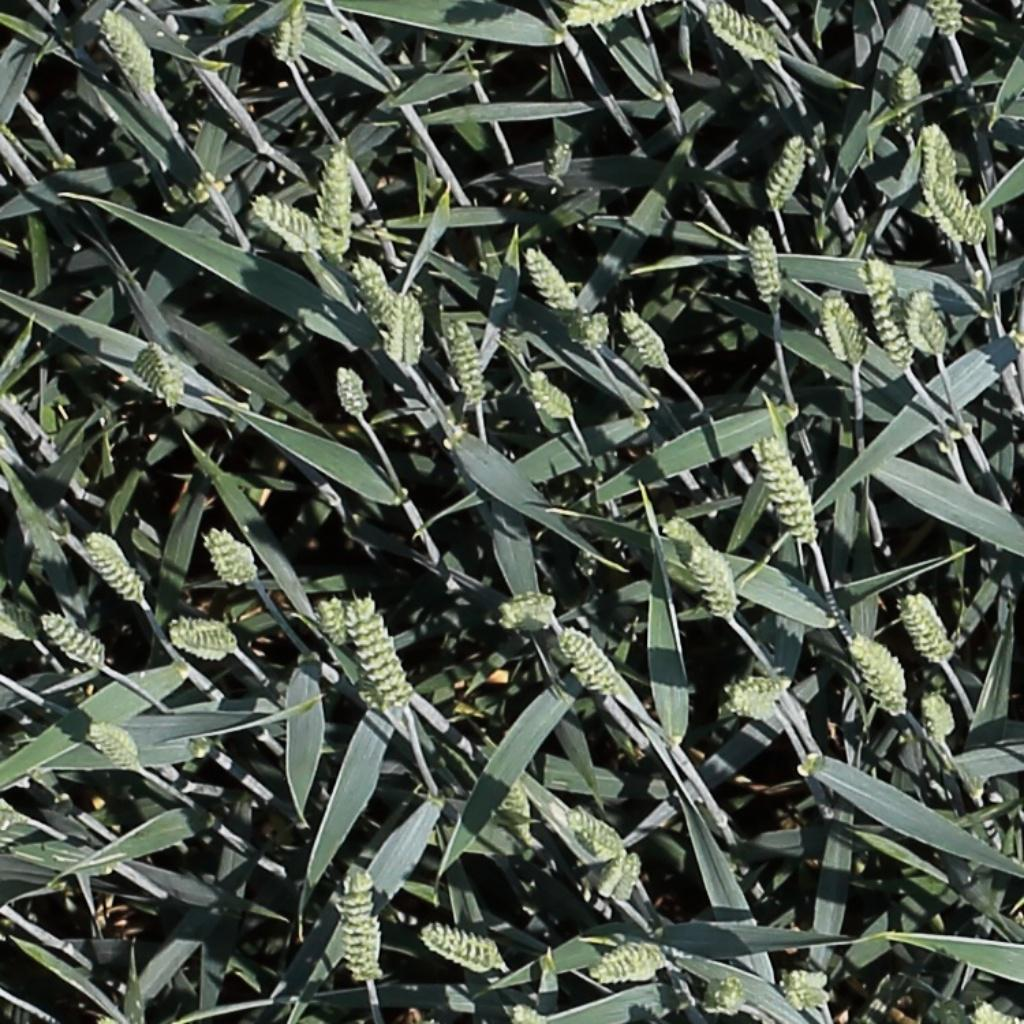0-0: (348, 596, 409, 715), (522, 241, 593, 341), (759, 432, 820, 548), (864, 253, 918, 376), (98, 5, 161, 99), (850, 634, 912, 722), (83, 528, 147, 607), (558, 626, 625, 696), (688, 539, 740, 625), (925, 174, 985, 247), (901, 587, 954, 669), (708, 4, 780, 62), (421, 924, 506, 972), (350, 251, 401, 331), (618, 303, 675, 374), (39, 613, 107, 670), (768, 126, 811, 214), (449, 312, 487, 408), (172, 615, 236, 672), (139, 335, 187, 410), (720, 678, 800, 723), (346, 869, 376, 988), (202, 525, 258, 588), (821, 289, 864, 370), (251, 196, 323, 244), (912, 282, 953, 361), (593, 939, 670, 981), (323, 137, 350, 253), (752, 217, 785, 309), (781, 964, 837, 1018), (503, 774, 540, 853), (525, 365, 578, 420), (566, 812, 628, 858), (922, 114, 957, 193), (892, 55, 924, 140), (87, 722, 141, 772), (604, 847, 645, 912), (593, 847, 636, 907), (334, 359, 371, 423), (393, 288, 420, 372), (311, 592, 346, 655), (921, 688, 955, 749), (546, 129, 577, 189), (0, 593, 35, 643), (498, 600, 556, 630), (570, 1, 641, 24), (718, 970, 749, 1018), (273, 12, 299, 68), (584, 304, 613, 354), (285, 1, 309, 54), (935, 0, 962, 45), (973, 1000, 1010, 1024), (510, 1003, 546, 1024)
